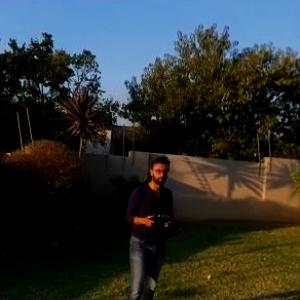follow: (121, 153, 177, 299)
